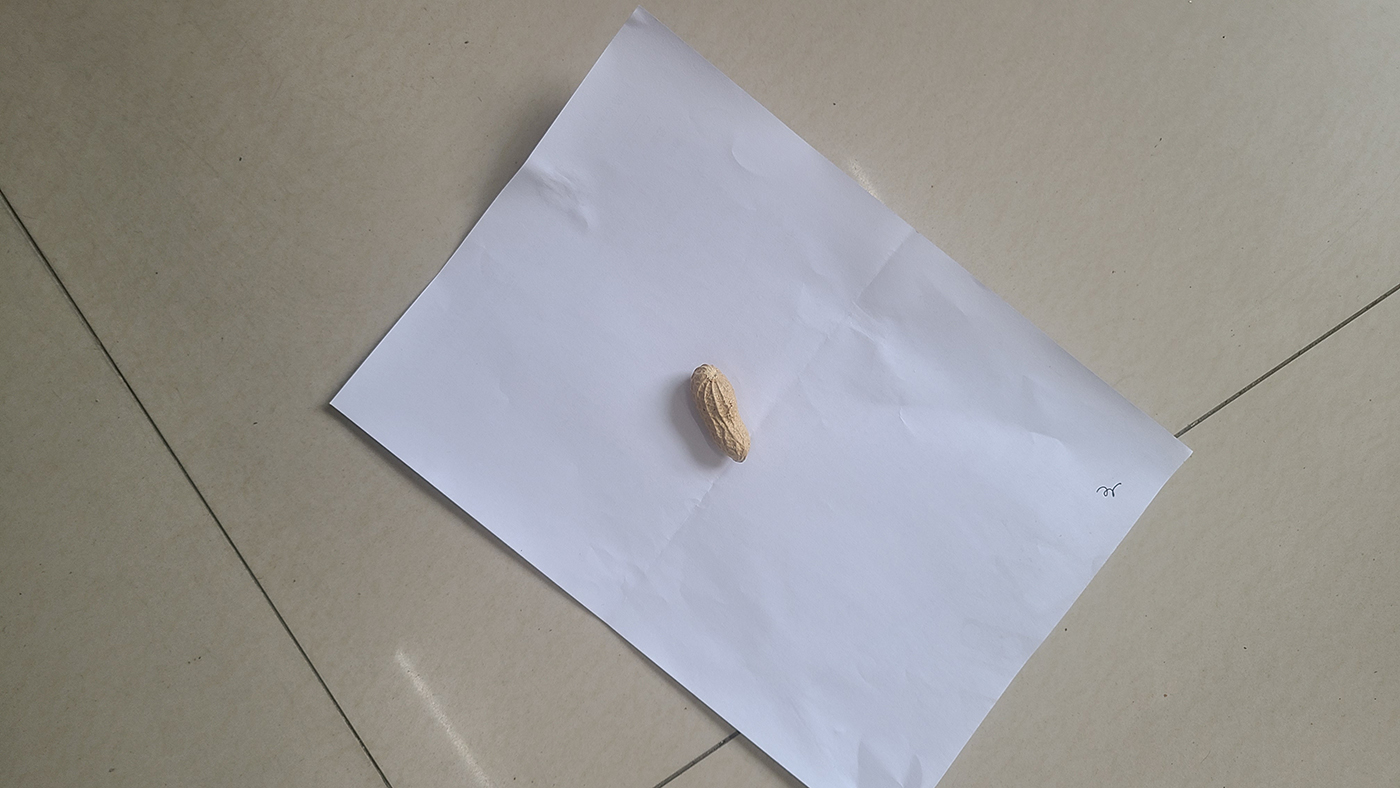h: (689, 362, 751, 464)
